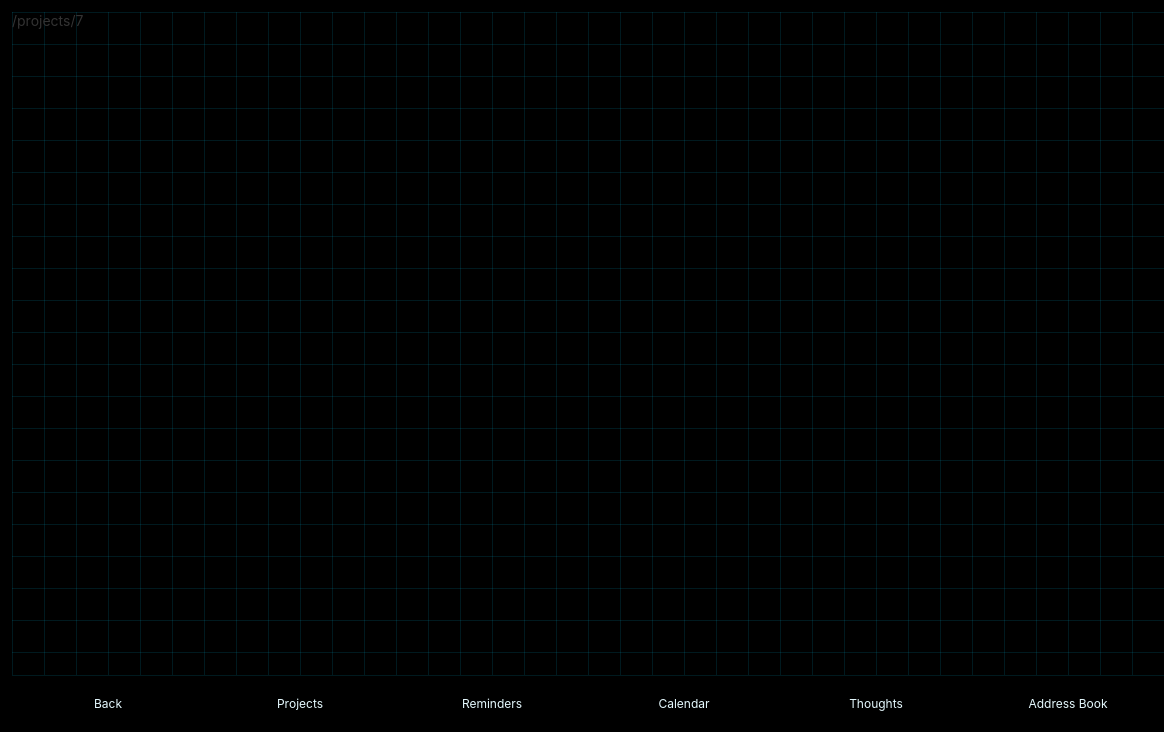
Test case: TabBar › Back steps back in history when idx > 0
Click the button "Back".
click(108, 704)  # box [12,693,204,715]
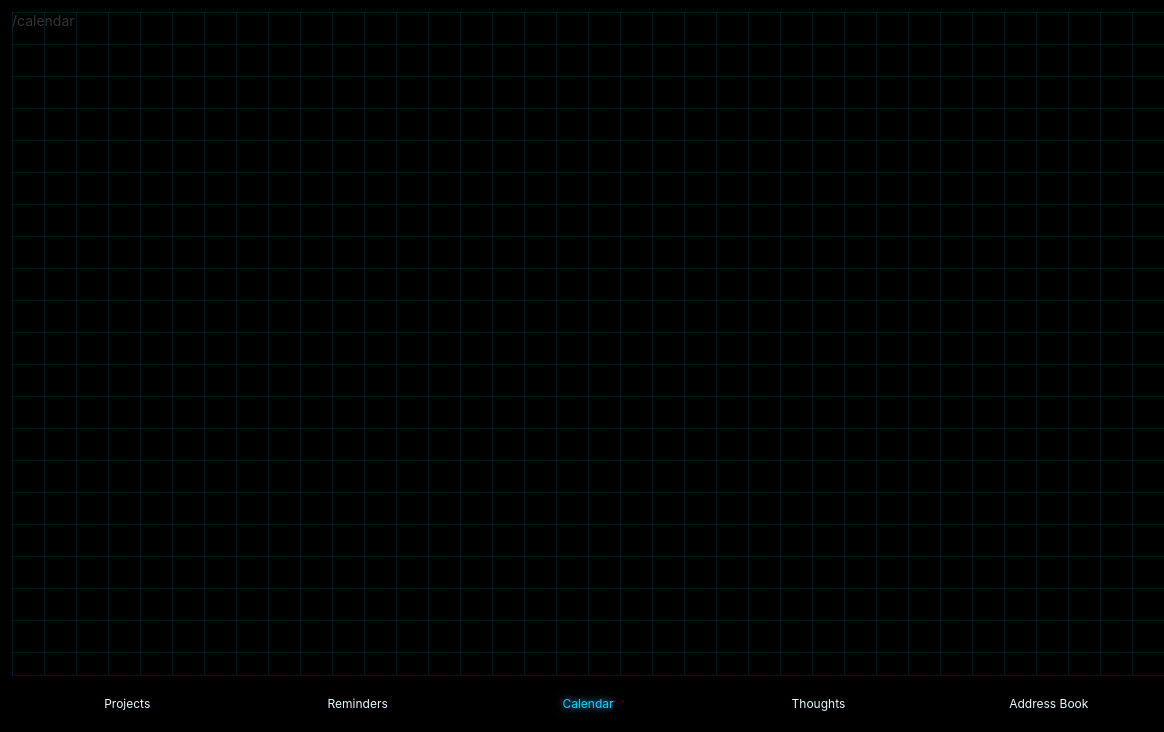
Expected: the text with test id "where" reads "/calendar", [12,12,75,29]
